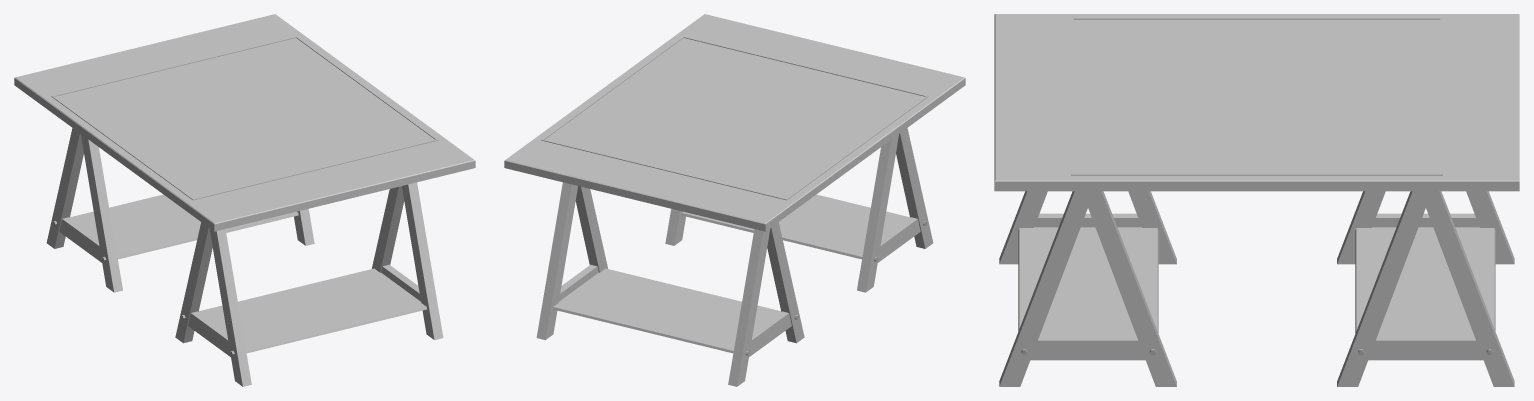
Rendered from Furniture_Table.fbx.
3 renders of one model, left to right at view 1: azimuth 30°, elevation 25°; view 2: azimuth 150°, elevation 25°; view 3: azimuth 270°, elevation 25°, orthographic. The views are drawn at different scales.
Parts seen in each view (by area): view 1: Empty_Mesh; view 2: Empty_Mesh; view 3: Empty_Mesh.
Part boxes in pixels (bbox=[...]): Empty_Mesh: bbox=[14, 14, 475, 386]; Empty_Mesh: bbox=[504, 14, 965, 386]; Empty_Mesh: bbox=[994, 14, 1519, 386].
Bounding box in the file's own units: 110438 × 69800 × 146568.
